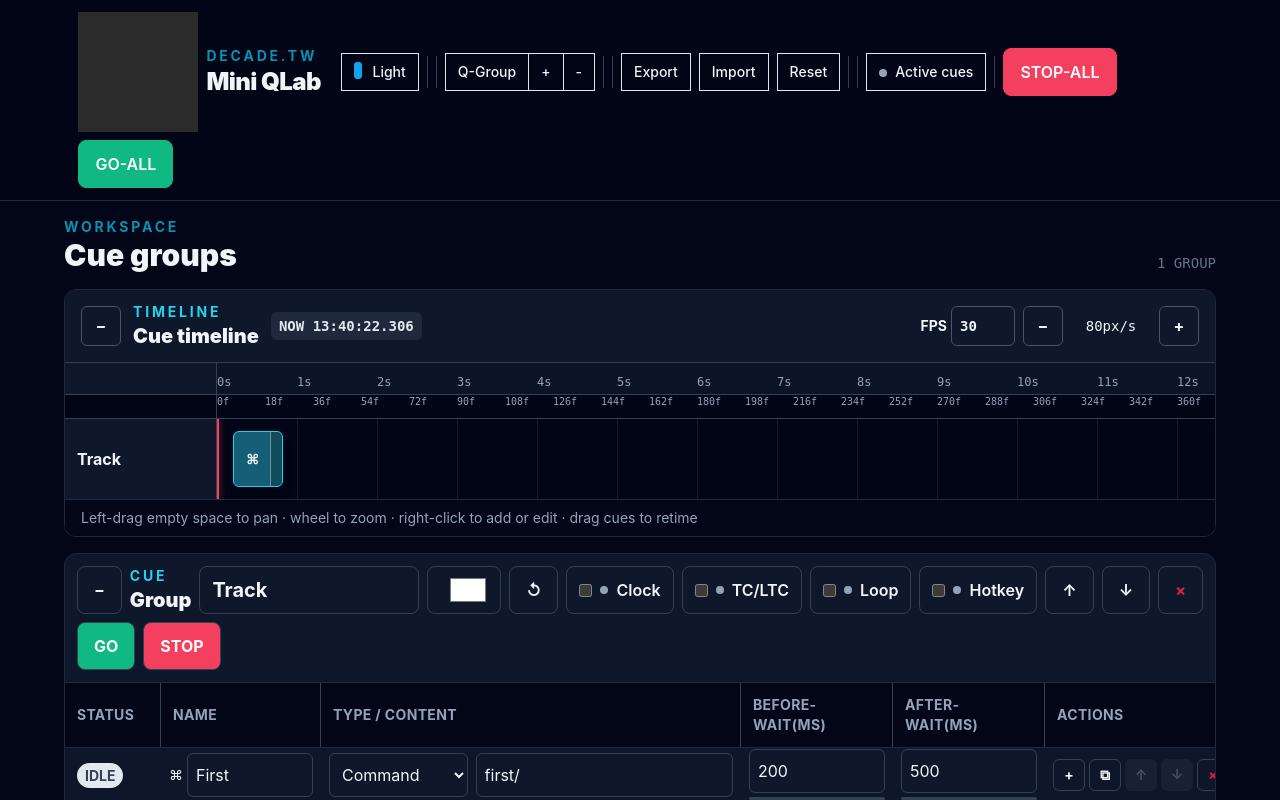
Test: drags and resizes timeline cues through the shared timing state
The image size is (1280, 800).
Press the mouse on the button with aria-label "First timeline cue": (258, 459) x1=233 y1=431 x2=283 y2=487
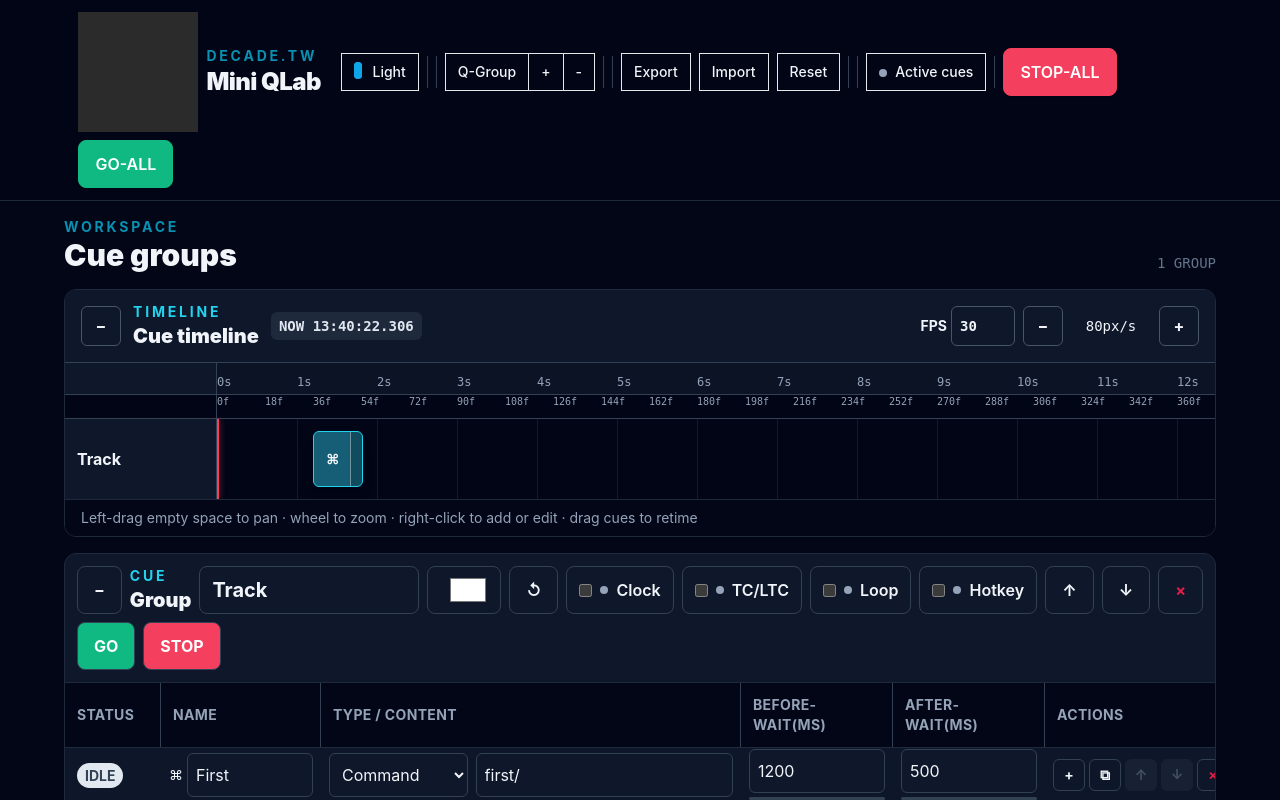
Expected: the number field named "Before-wait for cue 1" holds "1200", x1=749 y1=749 x2=885 y2=793
Press the mouse on the element named "Resize First": (356, 459) x1=350 y1=432 x2=362 y2=486
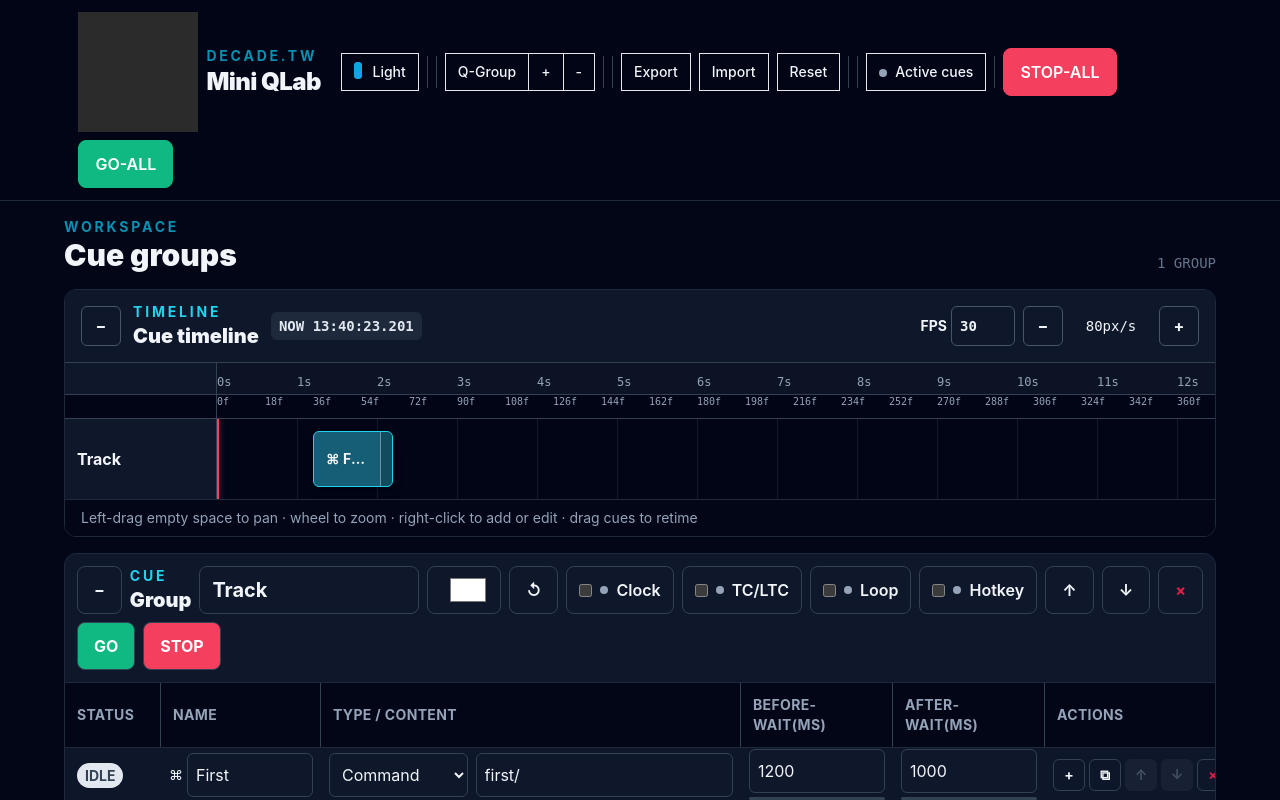
Expected: the number field named "After-wait for cue 1" holds "1000", x1=901 y1=749 x2=1037 y2=793
